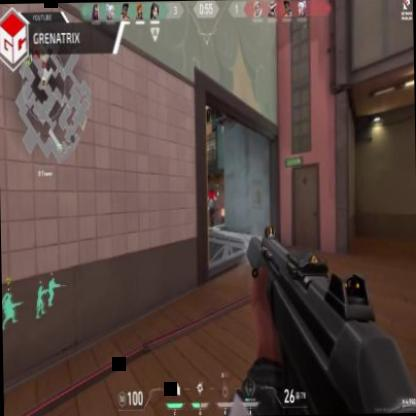enemy: (206, 190, 215, 228)
enemy_head: (209, 190, 213, 195)
